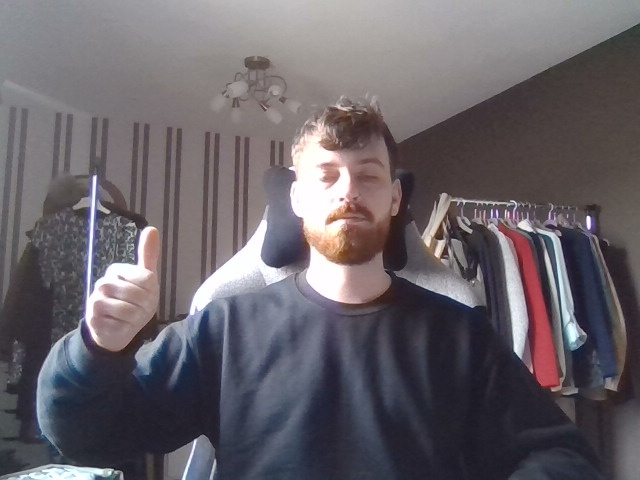Thumbs Up: (81, 211, 174, 356)
